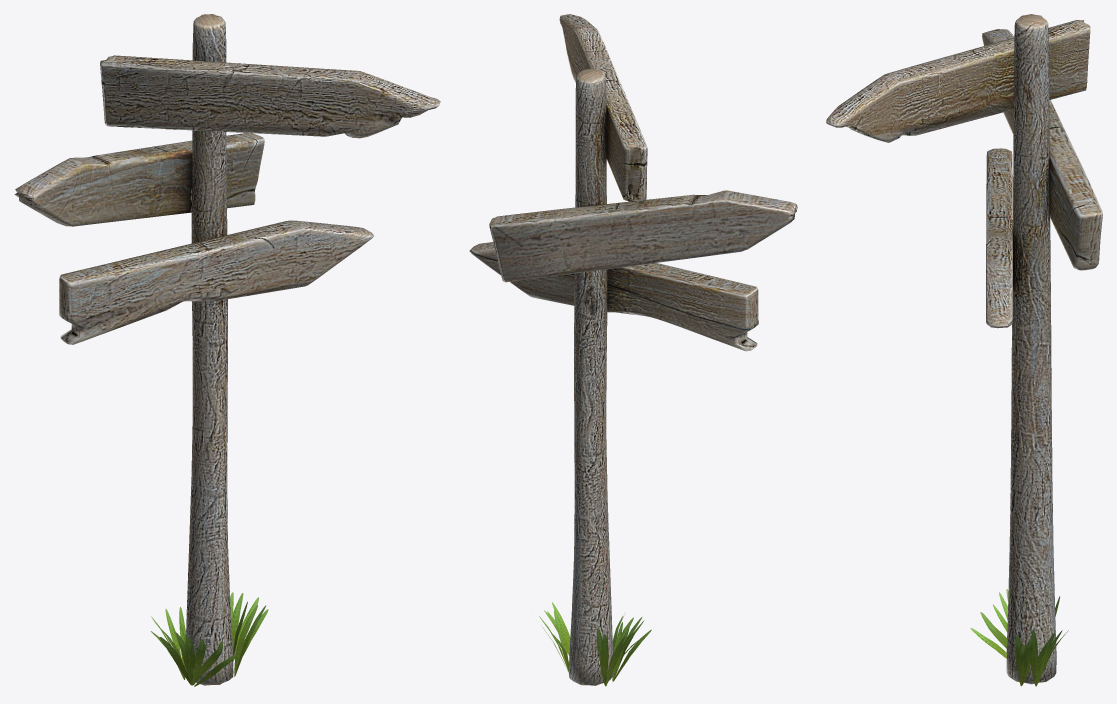
3 renders of one model, left to right at view 1: azimuth 30°, elevation 25°; view 2: azimuth 150°, elevation 25°; view 3: azimuth 270°, elevation 25°, orthographic. The views are drawn at different scales.
Parts seen in each view (by area): view 1: UKAZ3_LOW; view 2: UKAZ3_LOW; view 3: UKAZ3_LOW.
Boxes of the visible parts, x1,y1,x2,y2 form: UKAZ3_LOW: [14, 14, 440, 686]; UKAZ3_LOW: [469, 14, 797, 686]; UKAZ3_LOW: [826, 14, 1102, 686].
Bounding box in the file's own units: 554 × 995 × 377.
2 materials, 2 textured.
